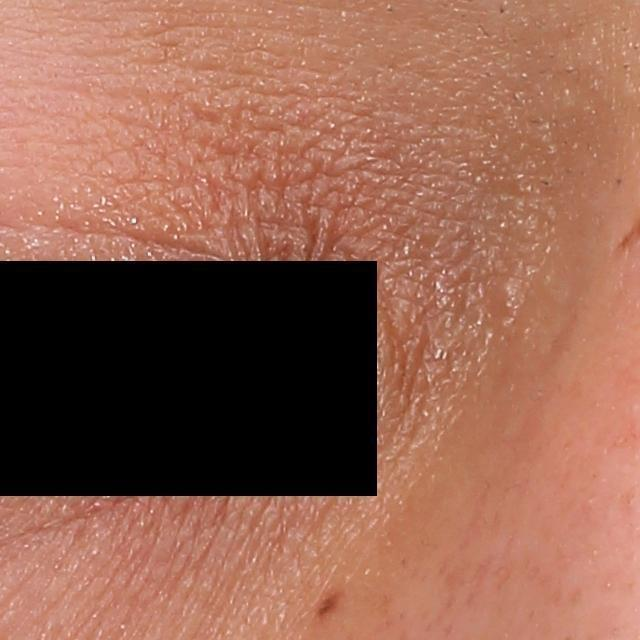nevus: (309, 587, 349, 625)
